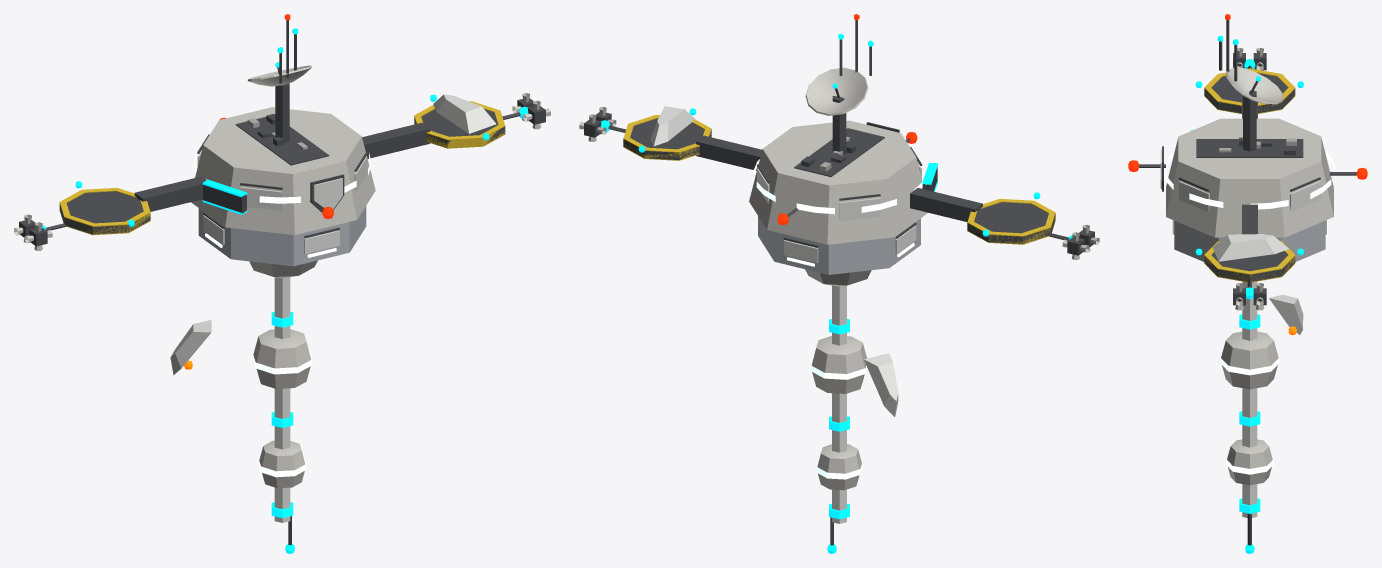
File: trade_post.glb
The picture shows the model from 3 angles, left to right: view 1: azimuth 30°, elevation 25°; view 2: azimuth 150°, elevation 25°; view 3: azimuth 270°, elevation 25°; orthographic projection. The views are drawn at different scales.
Parts seen in each view (by area): view 1: trade_post; view 2: trade_post; view 3: trade_post.
Part boxes in pixels (x1=…): trade_post: x1=14, y1=14, x2=550, y2=553; trade_post: x1=579, y1=14, x2=1099, y2=553; trade_post: x1=1128, y1=14, x2=1367, y2=553.
Bounding box in the file's own units: 2 × 2.02 × 0.8207.
